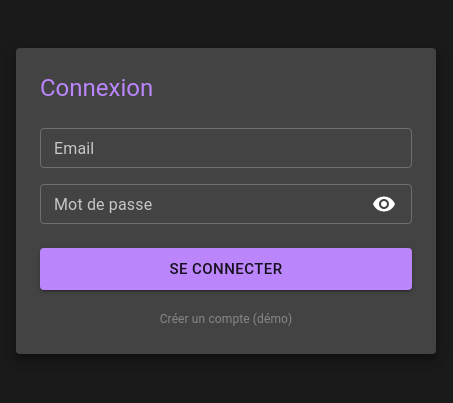
Login › affiche une erreur serveur sur identifiants invalides
Type "a@b.com" into the field labelled "Email".
click(226, 148); type("a@b.com")  # box [40, 128, 412, 168]
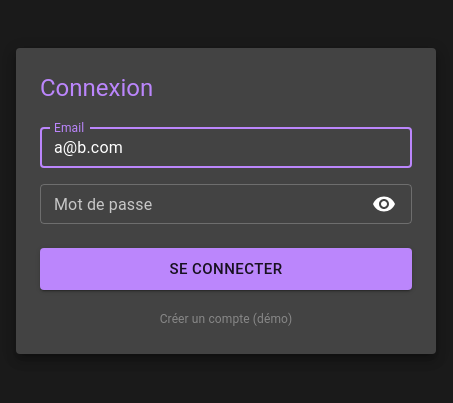
Type "wrong" into the password field labelled "Mot de passe".
click(200, 204); type("wrong")  # box [40, 184, 359, 224]
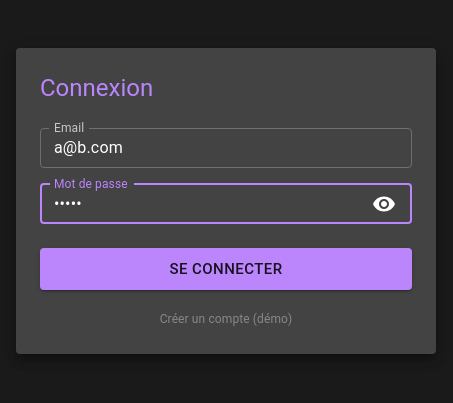
Click the button "Se connecter".
click(226, 269)  # box [40, 248, 412, 290]
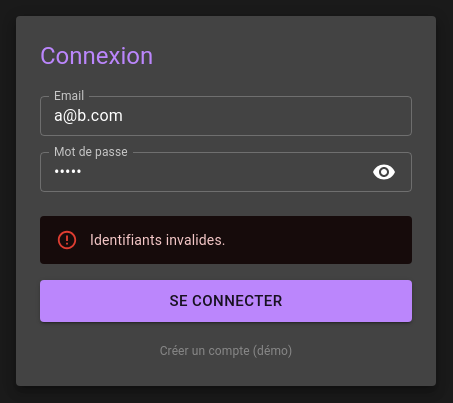
Check: the text "Identifiants invalides." is shown, box [90, 232, 226, 248]
